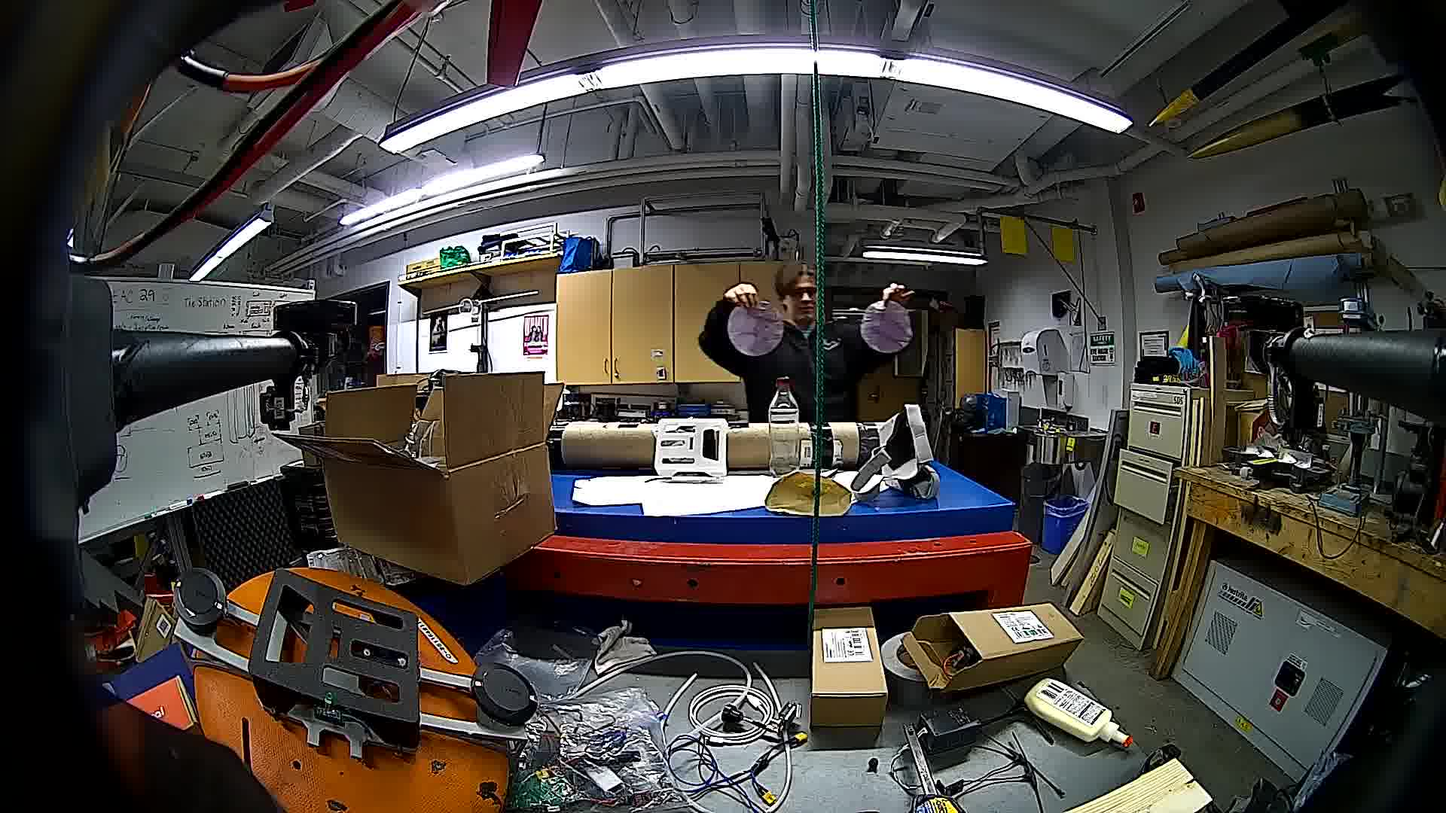Target: (729, 303, 780, 356), (861, 303, 913, 352)
